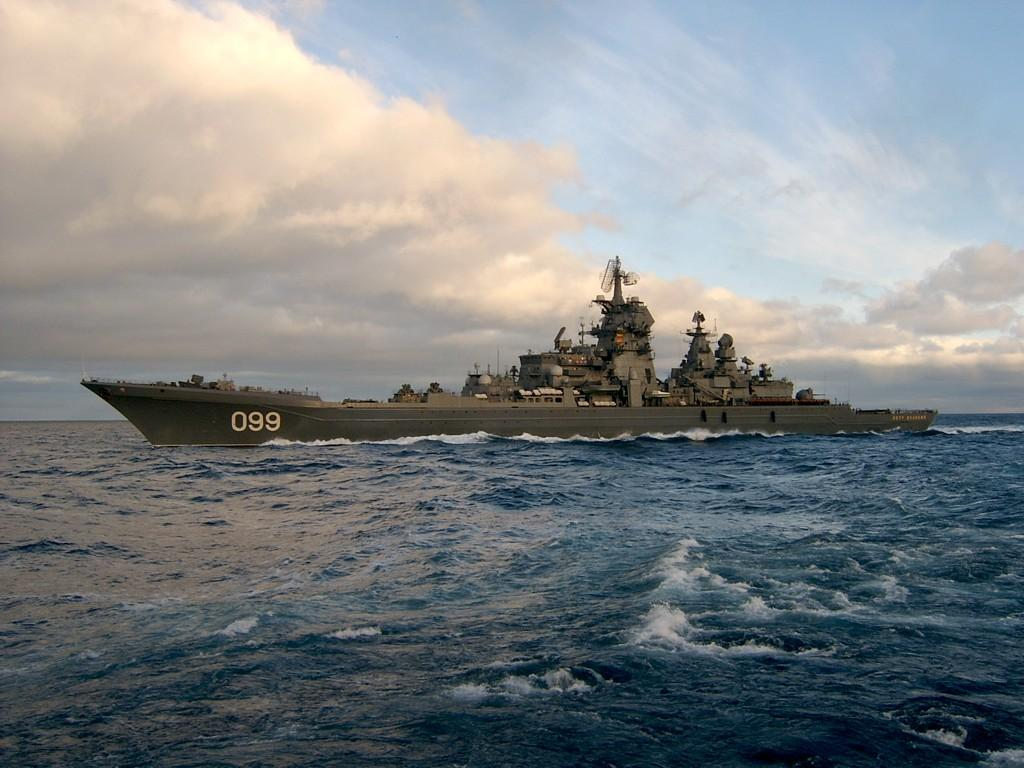Warship: (77, 254, 941, 444)
